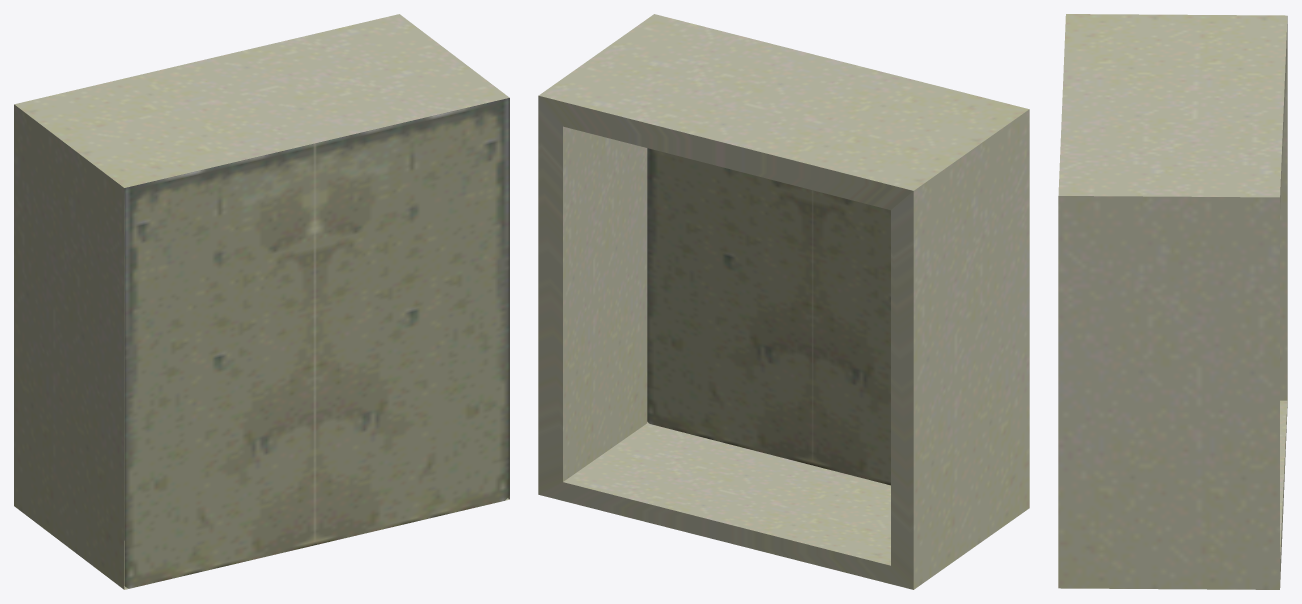
Rendered from filecabinet_largest.fbx.
3 renders of one model, left to right at view 1: azimuth 30°, elevation 25°; view 2: azimuth 150°, elevation 25°; view 3: azimuth 270°, elevation 25°, orthographic. The views are drawn at different scales.
Parts seen in each view (by area): view 1: file_cabinet_largest_open; view 2: file_cabinet_largest_open; view 3: file_cabinet_largest_open.
Boxes of the visible parts, x1,y1,x2,y2 form: file_cabinet_largest_open: [14, 14, 509, 589]; file_cabinet_largest_open: [538, 14, 1029, 589]; file_cabinet_largest_open: [1058, 14, 1287, 589].
Bounding box in the file's own units: 146 × 146 × 77.16.
